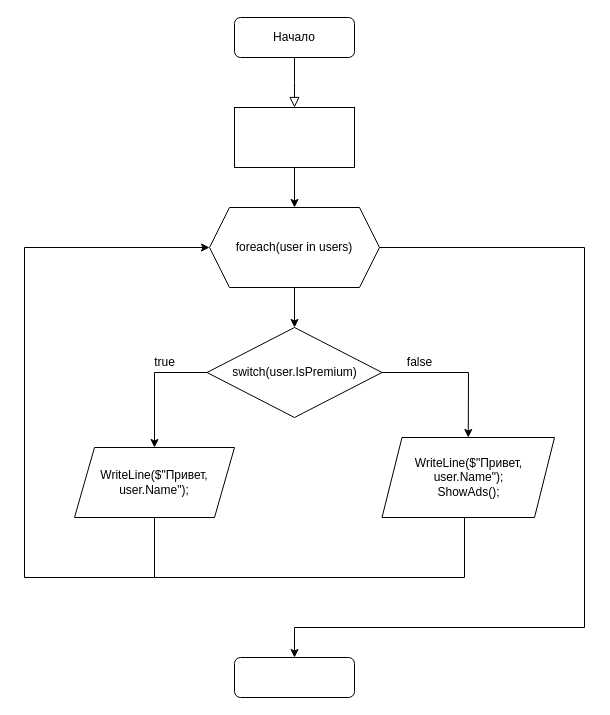
This 610x715 diagram has some shape labels left out. Here are the shapes that lost their labels. From the top down, the centre of each, then its label:
At [294,137]: "User[] users (initialization)".
At [294,677]: "Конец".
